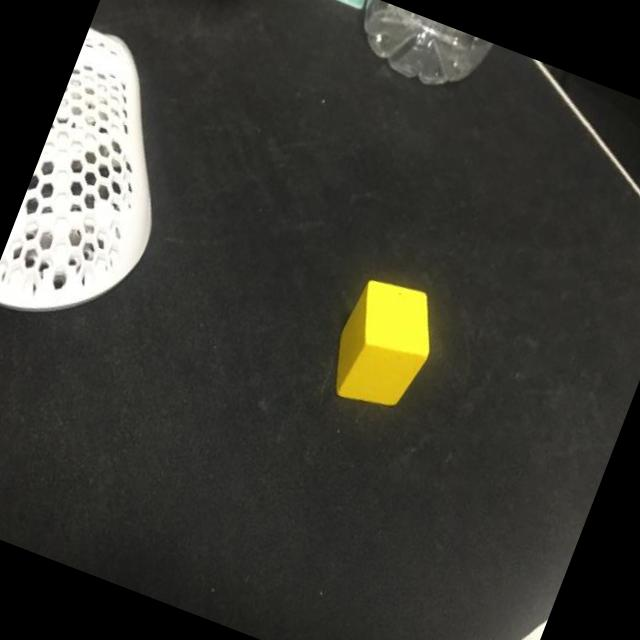yellow: (321, 269, 449, 422)
